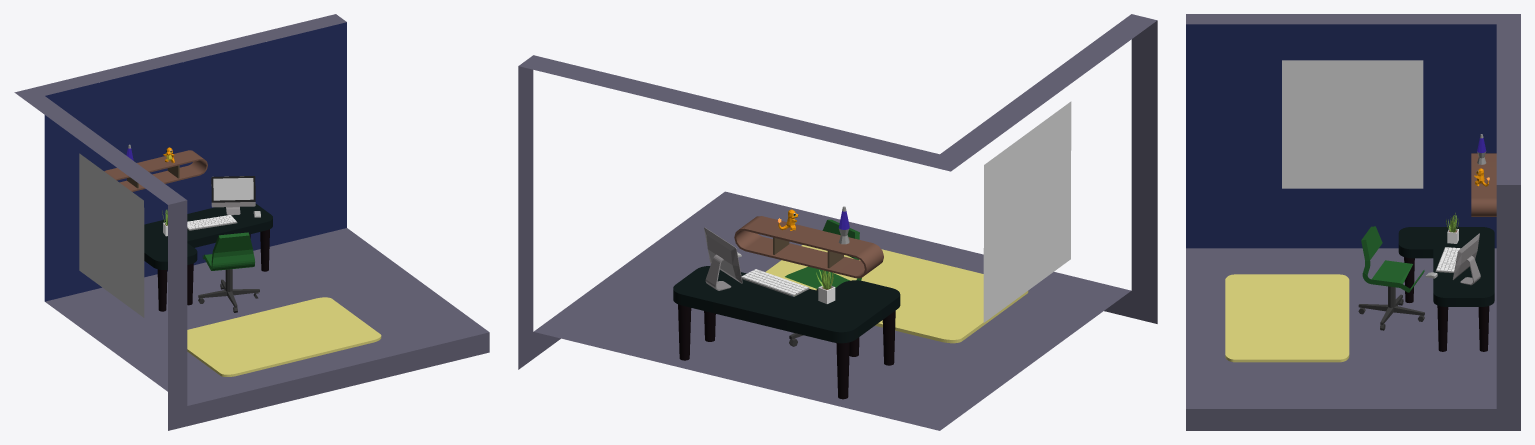
3 renders of one model, left to right at view 1: azimuth 30°, elevation 25°; view 2: azimuth 150°, elevation 25°; view 3: azimuth 270°, elevation 25°, orthographic. The views are drawn at different scales.
Parts seen in each view (by area): view 1: Plane, WawaRug, Plano, Desk, Chair, SM_Shelf:SM_Shelf1, iMac, keyboard; view 2: Plane, Plano, Desk, WawaRug, SM_Shelf:SM_Shelf1, iMac, Chair, keyboard; view 3: Plane, Plano, WawaRug, Desk, Chair, SM_Shelf:SM_Shelf1, iMac, keyboard.
Part boxes in pixels (x1=…): Plane: x1=14, y1=14, x2=489, y2=430; WawaRug: x1=187, y1=297, x2=381, y2=376; Plano: x1=79, y1=153, x2=144, y2=317; Desk: x1=144, y1=203, x2=272, y2=311; Chair: x1=198, y1=232, x2=259, y2=312; SM_Shelf:SM_Shelf1: x1=104, y1=150, x2=207, y2=191; iMac: x1=211, y1=176, x2=255, y2=215; keyboard: x1=187, y1=215, x2=237, y2=230; Plane: x1=518, y1=14, x2=1157, y2=430; Plano: x1=983, y1=101, x2=1071, y2=322; Desk: x1=673, y1=266, x2=900, y2=399; WawaRug: x1=765, y1=245, x2=1028, y2=343; SM_Shelf:SM_Shelf1: x1=734, y1=216, x2=883, y2=278; iMac: x1=704, y1=227, x2=742, y2=290; Chair: x1=785, y1=219, x2=861, y2=346; keyboard: x1=741, y1=269, x2=809, y2=296; Plane: x1=1186, y1=14, x2=1520, y2=430; Plano: x1=1282, y1=60, x2=1423, y2=188; WawaRug: x1=1225, y1=274, x2=1349, y2=362; Desk: x1=1398, y1=227, x2=1494, y2=351; Chair: x1=1358, y1=226, x2=1424, y2=330; SM_Shelf:SM_Shelf1: x1=1471, y1=153, x2=1496, y2=216; iMac: x1=1452, y1=233, x2=1480, y2=285; keyboard: x1=1435, y1=247, x2=1460, y2=272.
Size of the model in its own units: 5.72 by 3.84 by 4.74.
